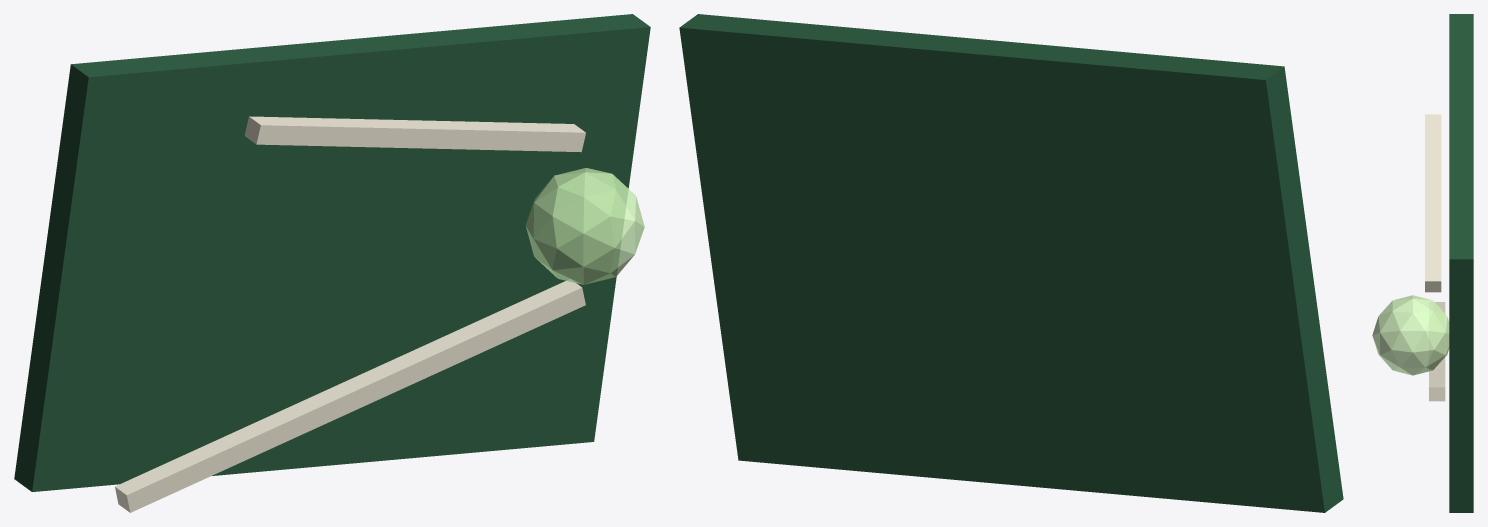
File: 02_world_prop_polish.glb
The picture shows the model from 3 angles, left to right: view 1: azimuth 30°, elevation 25°; view 2: azimuth 150°, elevation 25°; view 3: azimuth 270°, elevation 25°; orthographic projection. The views are drawn at different scales.
Visible parts, largest first — view 1: object_overlay_plate, edge_wear_a, glow_socket, edge_wear_b; view 2: object_overlay_plate; view 3: object_overlay_plate, glow_socket, edge_wear_b, edge_wear_a.
Boxes of the visible parts, x1,y1,x2,y2 form: object_overlay_plate: (14, 14, 650, 491); edge_wear_a: (115, 279, 585, 512); glow_socket: (525, 168, 644, 284); edge_wear_b: (244, 116, 585, 152); object_overlay_plate: (679, 14, 1343, 512); object_overlay_plate: (1449, 14, 1473, 512); glow_socket: (1372, 295, 1449, 375); edge_wear_b: (1425, 114, 1441, 292); edge_wear_a: (1429, 302, 1445, 401).
Bounding box in the file's own units: 1.2 × 0.9027 × 0.25.
